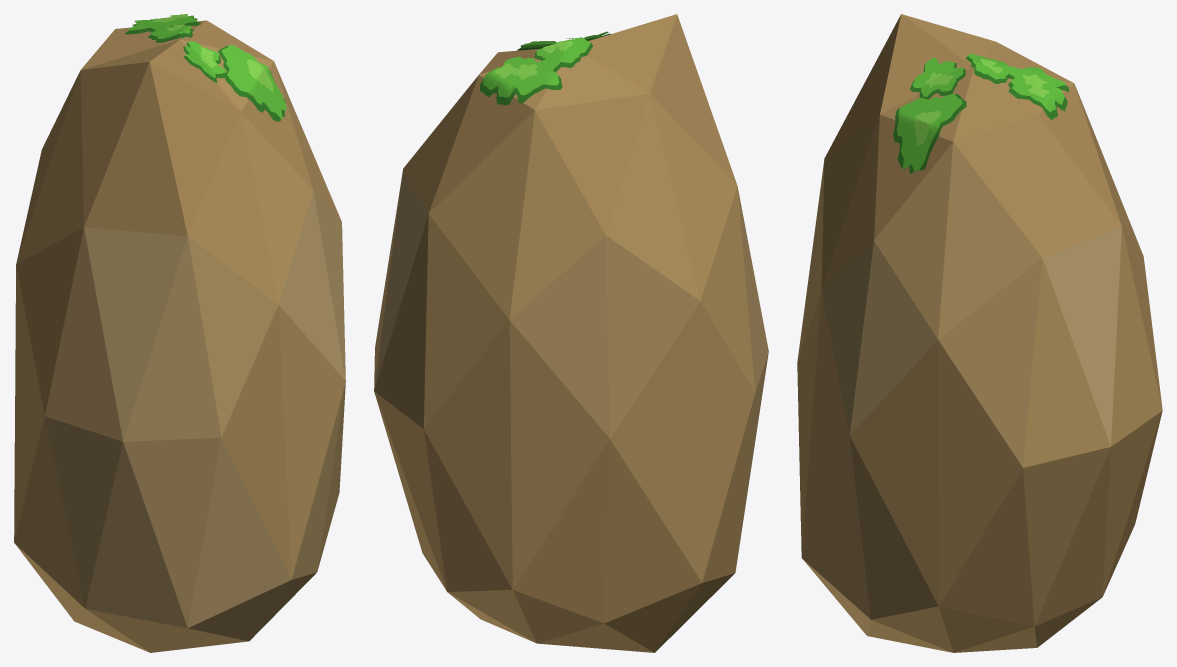
Rendered from rock_3_dots.glb.
3 renders of one model, left to right at view 1: azimuth 30°, elevation 25°; view 2: azimuth 150°, elevation 25°; view 3: azimuth 270°, elevation 25°, orthographic. The views are drawn at different scales.
Visible parts, largest first — view 1: rock_3_dots; view 2: rock_3_dots; view 3: rock_3_dots.
Part boxes in pixels (x1,y1,x2,y2): rock_3_dots: [14, 14, 345, 652]; rock_3_dots: [374, 14, 768, 652]; rock_3_dots: [797, 14, 1162, 652].
Bounding box in the file's own units: 1.15 × 2.02 × 1.12.
